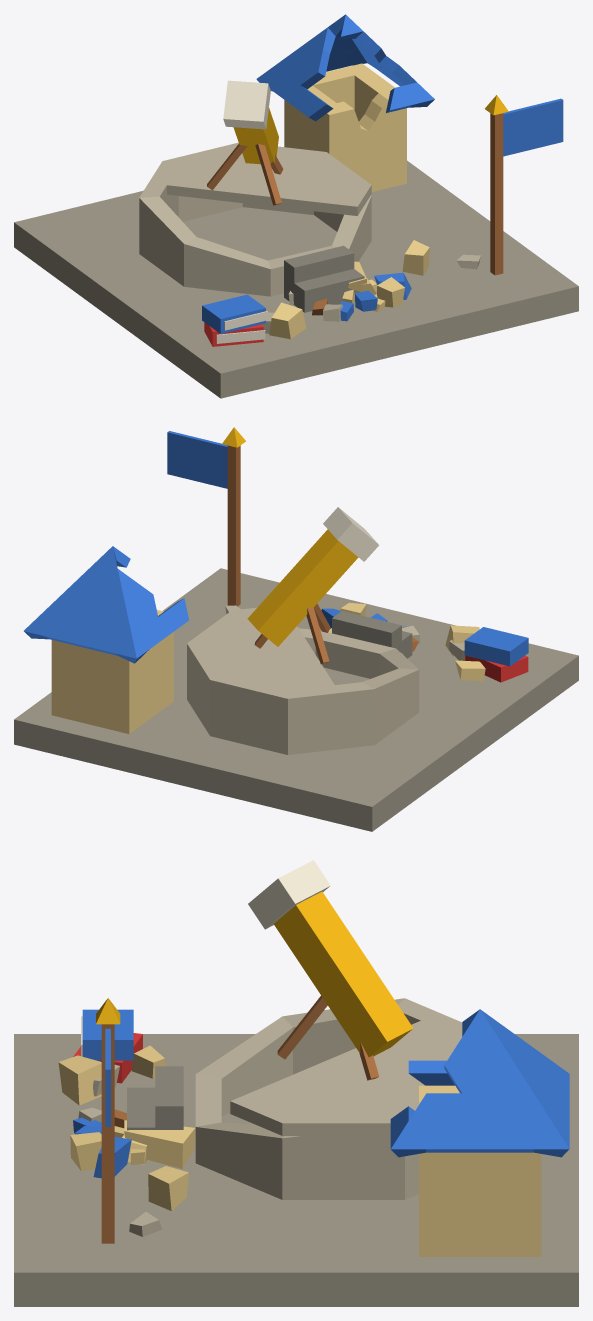
Rendered from observatory_t1_v1_dmg1.glb.
3 renders of one model, top to bottom at view 1: azimuth 30°, elevation 25°; view 2: azimuth 150°, elevation 25°; view 3: azimuth 270°, elevation 25°, orthographic. The views are drawn at different scales.
Visible parts, largest first — view 1: observatory_t1_v1_dmg1; view 2: observatory_t1_v1_dmg1; view 3: observatory_t1_v1_dmg1.
Part boxes in pixels (box(x1,y1,x2,y2)): observatory_t1_v1_dmg1: box(14, 14, 578, 398); observatory_t1_v1_dmg1: box(14, 427, 578, 831); observatory_t1_v1_dmg1: box(14, 860, 578, 1306).
Bounding box in the file's own units: 0.63 × 0.3351 × 0.6.
1 material, 1 textured.
